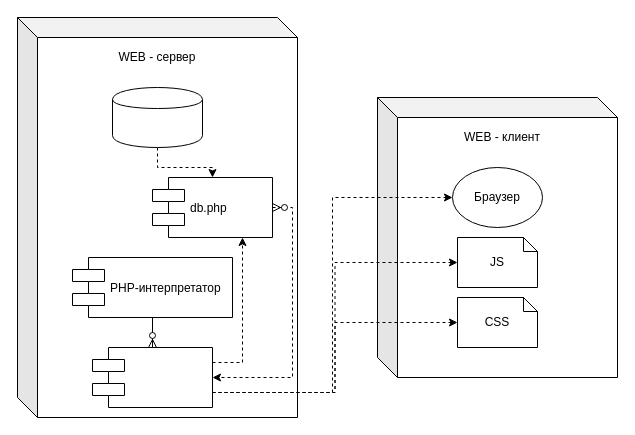
Image size: 635x435. Some labels were removed from this diagram. The centre of each missing label's shape, as x and y in pixels:
index.php: point 152,377
БД: point 157,117
